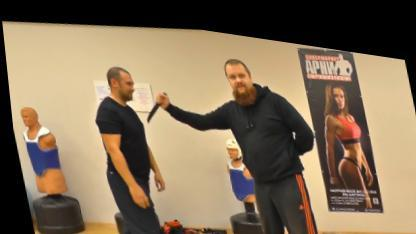knife: (137, 82, 172, 124)
